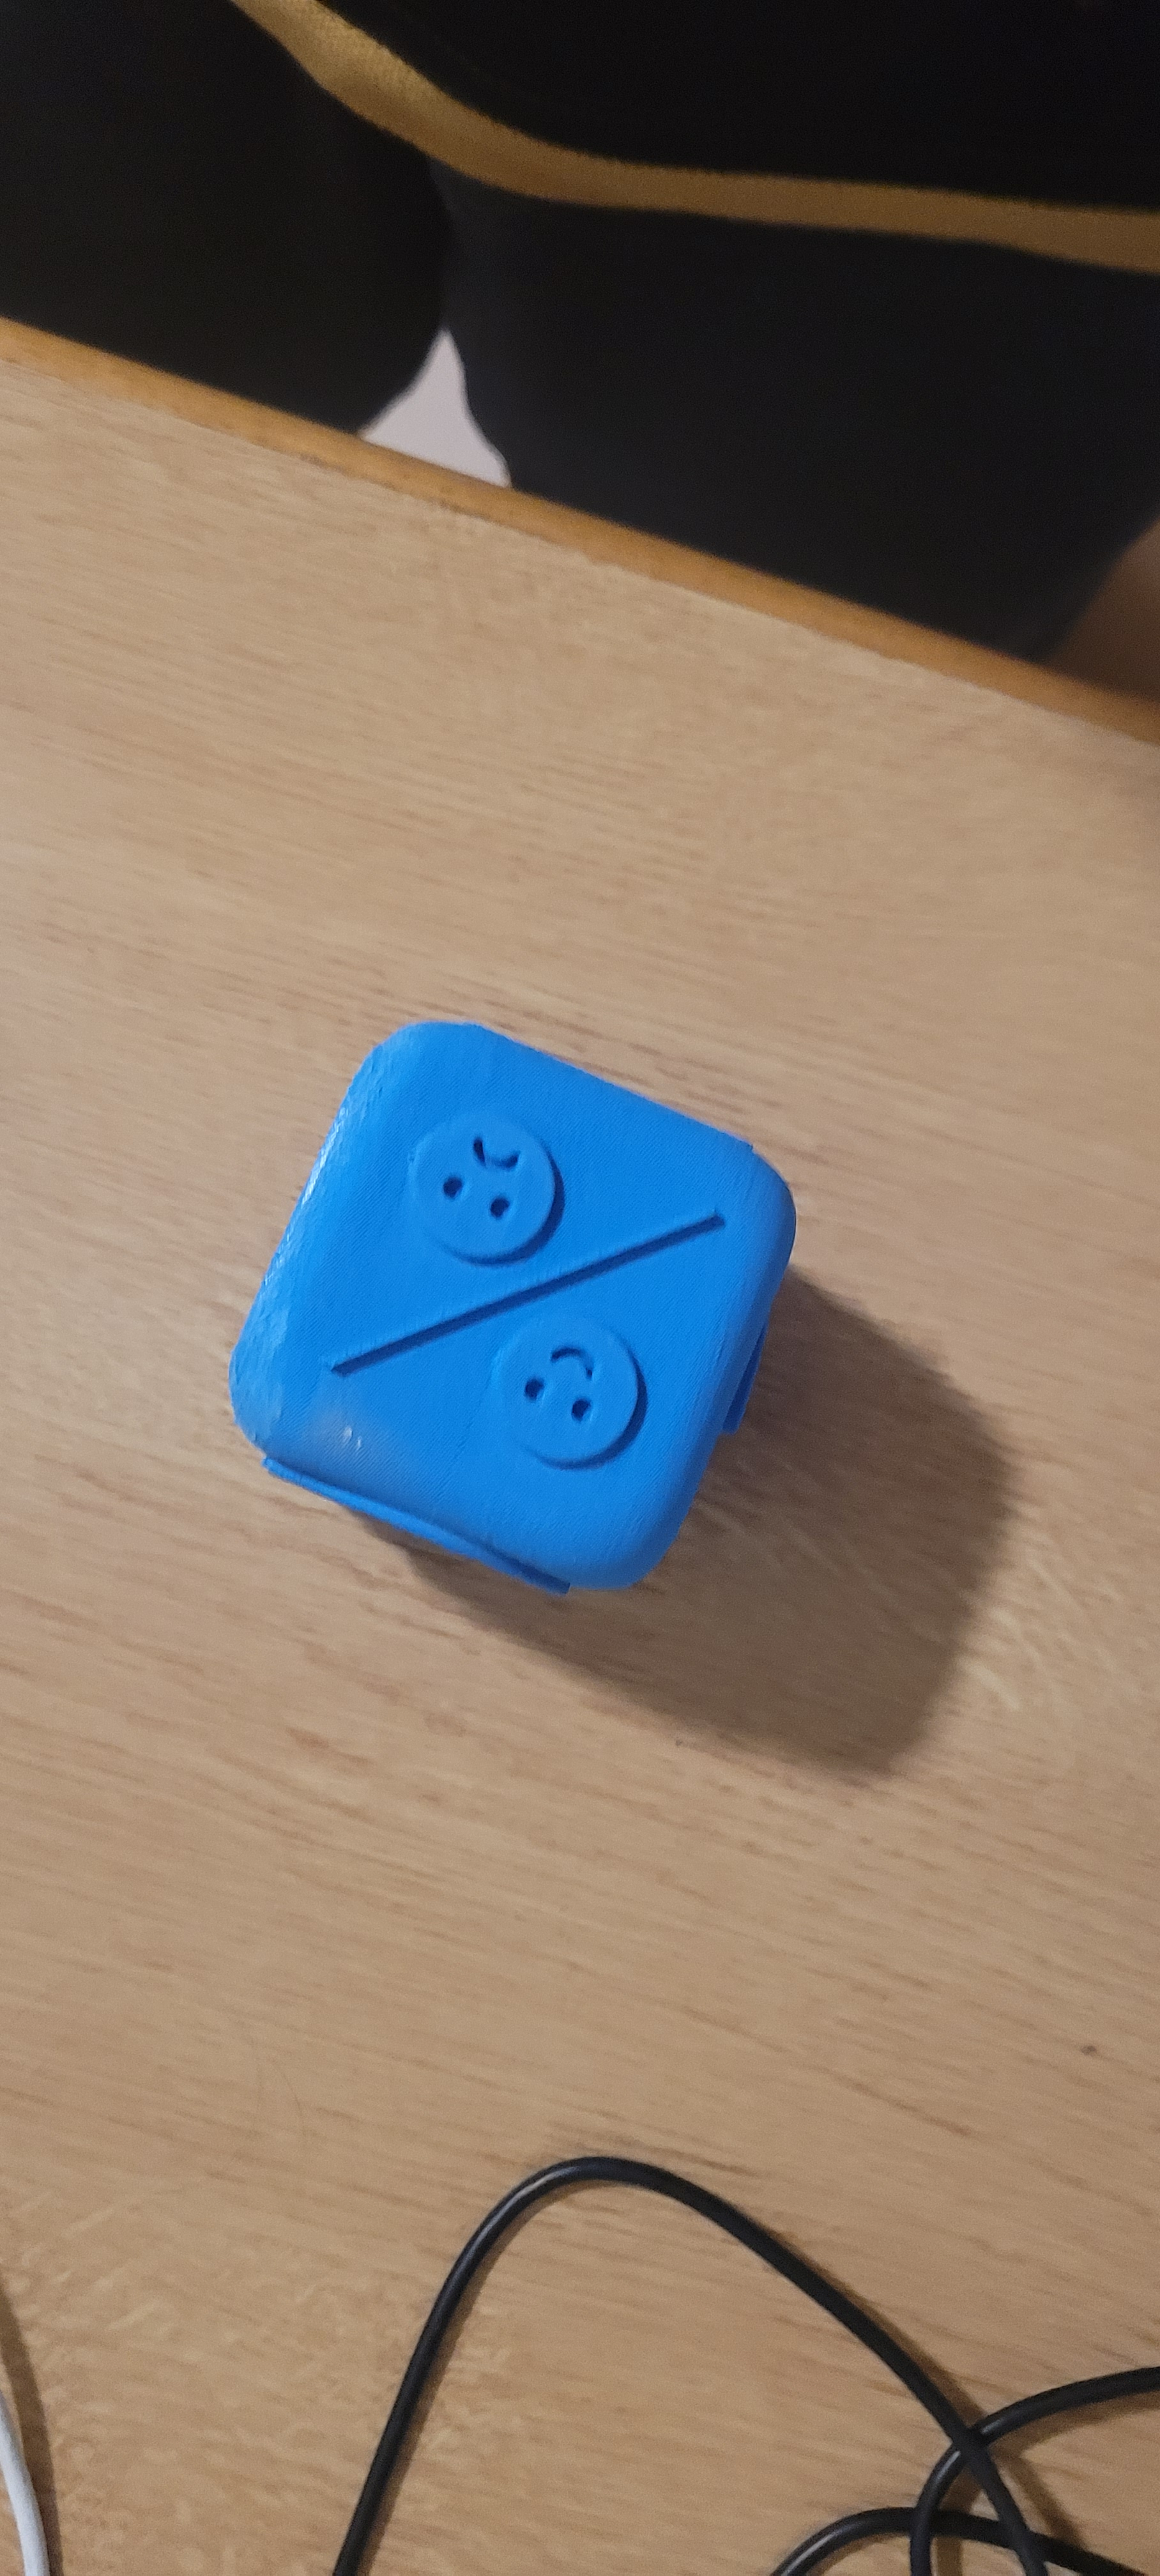Like/Dislike: (261, 963, 800, 1621)
